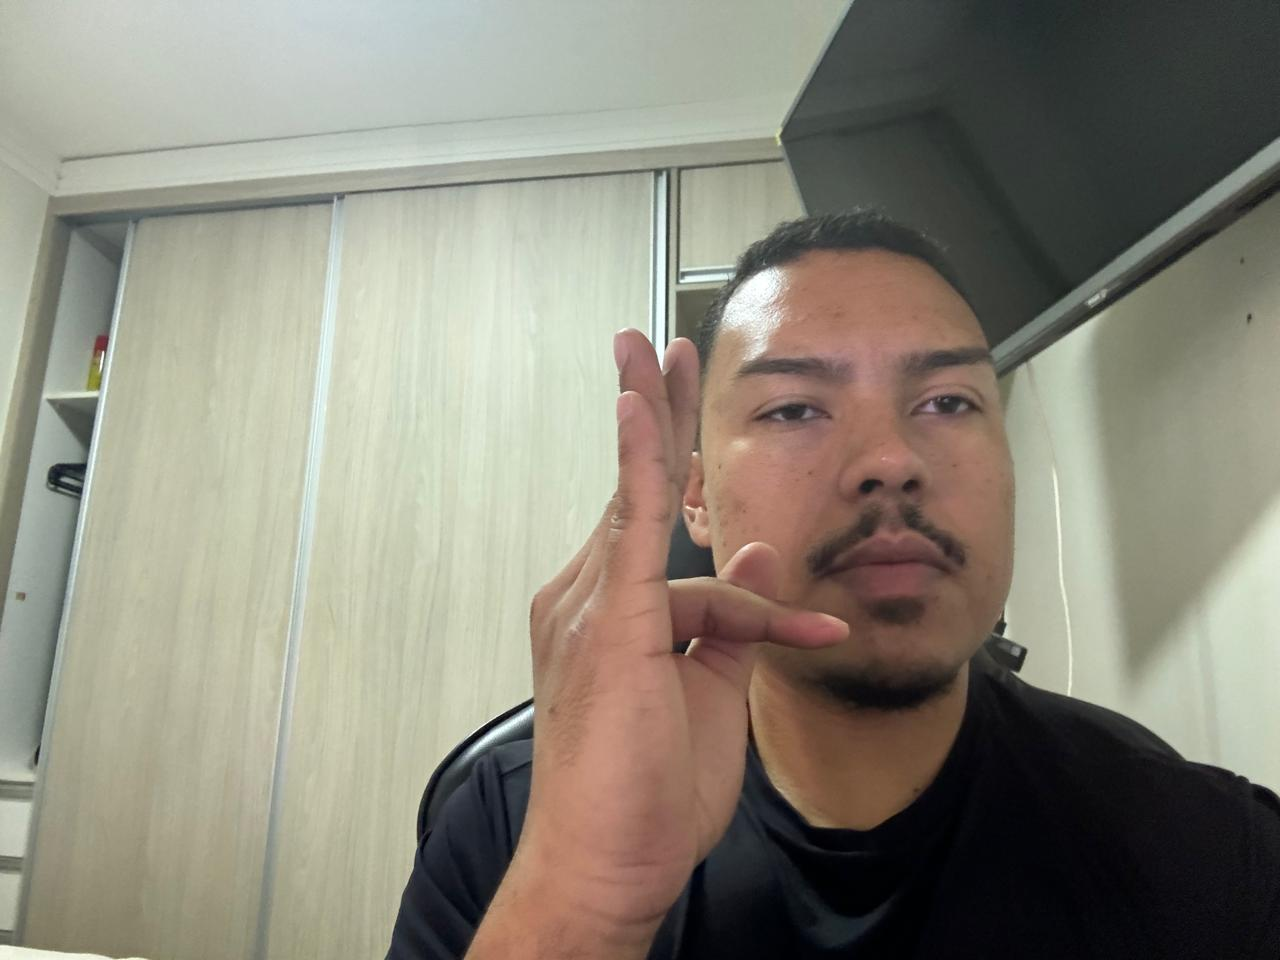f: (515, 320, 853, 913)
